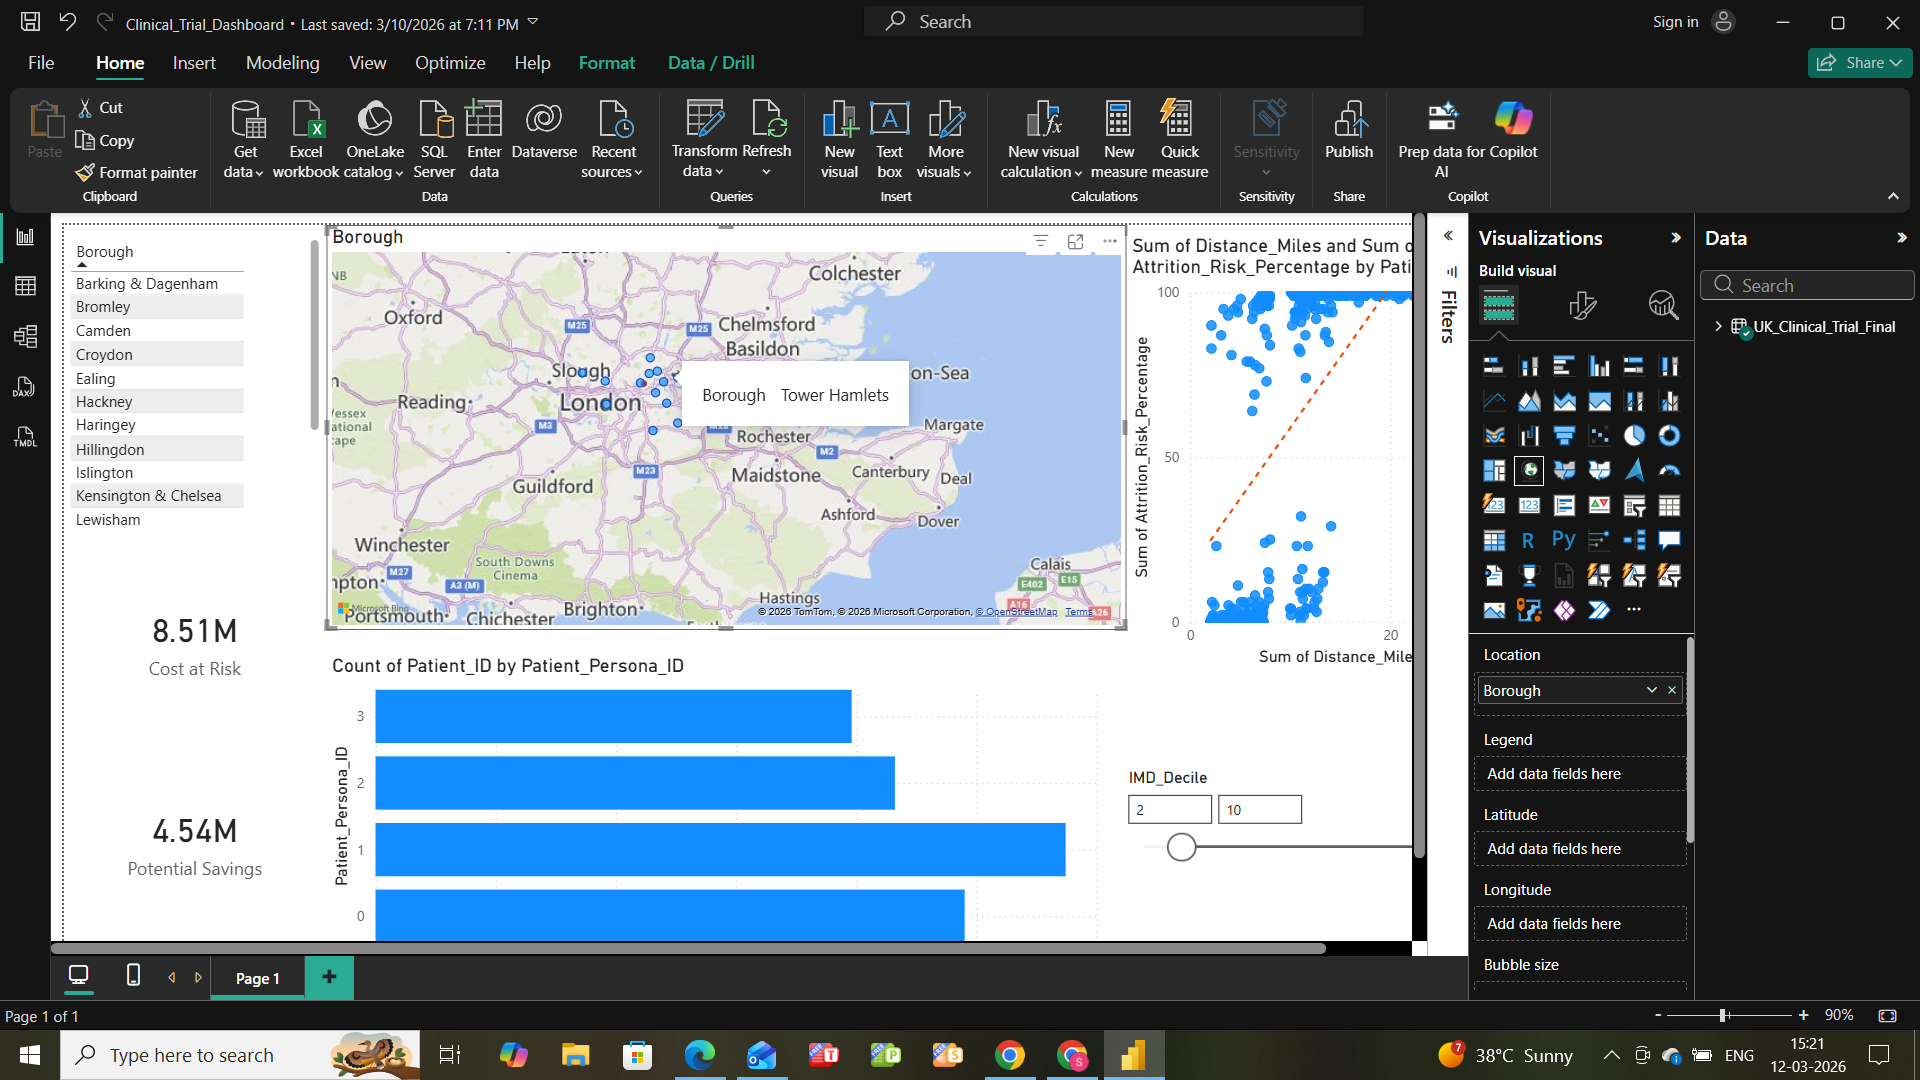

The page's visual inventory and layout, read from the dashboard file:
{"tool":"powerbi","page":{"name":"Page 1","canvas":[1280,720],"ordinal":0},"visuals":[{"type":"tableEx","fields":{"Values":["UK_Clinical_Trial_Final.Borough"]},"box":[0,7.8,232.2,264.4],"z":0},{"type":"map","fields":{"Category":["UK_Clinical_Trial_Final.Borough"]},"box":[232.9,0,711.4,360],"z":1000},{"type":"clusteredBarChart","fields":{"Y":["CountNonNull(UK_Clinical_Trial_Final.Patient_ID)"],"Category":["UK_Clinical_Trial_Final.Patient_Persona_ID"]},"box":[232.9,381.4,700,300],"z":2000},{"type":"card","fields":{"Values":["UK_Clinical_Trial_Final.Cost at Risk"]},"box":[0,292.9,232.9,152.9],"z":3000},{"type":"card","fields":{"Values":["UK_Clinical_Trial_Final.Potential Savings"]},"box":[0,461.4,232.9,172.9],"z":4000},{"type":"scatterChart","fields":{"X":["Sum(UK_Clinical_Trial_Final.Distance_Miles)"],"Y":["Sum(UK_Clinical_Trial_Final.Attrition_Risk_Percentage)"],"Category":["UK_Clinical_Trial_Final.Patient_ID"]},"box":[944.4,7.8,335.6,388.9],"z":5000},{"type":"slicer","fields":{"Values":["UK_Clinical_Trial_Final.IMD_Decile"]},"box":[933.8,477.5,335,203.8],"z":5001}]}

Visuals, with their boxes on the page's 1280x720 design canvas (x1, y1, x2, y2). These are canvas units, not pixel positions in the 1920x1080 screenshot, which may show the page scaled, cropped or inside an application window:
tableEx - UK_Clinical_Trial_Final.Borough: left=0, top=8, right=232, bottom=272
map - UK_Clinical_Trial_Final.Borough: left=233, top=0, right=944, bottom=360
clusteredBarChart - CountNonNull(UK_Clinical_Trial_Final.Patient_ID) x UK_Clinical_Trial_Final.Patient_Persona_ID: left=233, top=381, right=933, bottom=681
card - UK_Clinical_Trial_Final.Cost at Risk: left=0, top=293, right=233, bottom=446
card - UK_Clinical_Trial_Final.Potential Savings: left=0, top=461, right=233, bottom=634
scatterChart - Sum(UK_Clinical_Trial_Final.Distance_Miles) x Sum(UK_Clinical_Trial_Final.Attrition_Risk_Percentage): left=944, top=8, right=1280, bottom=397
slicer - UK_Clinical_Trial_Final.IMD_Decile: left=934, top=478, right=1269, bottom=681
